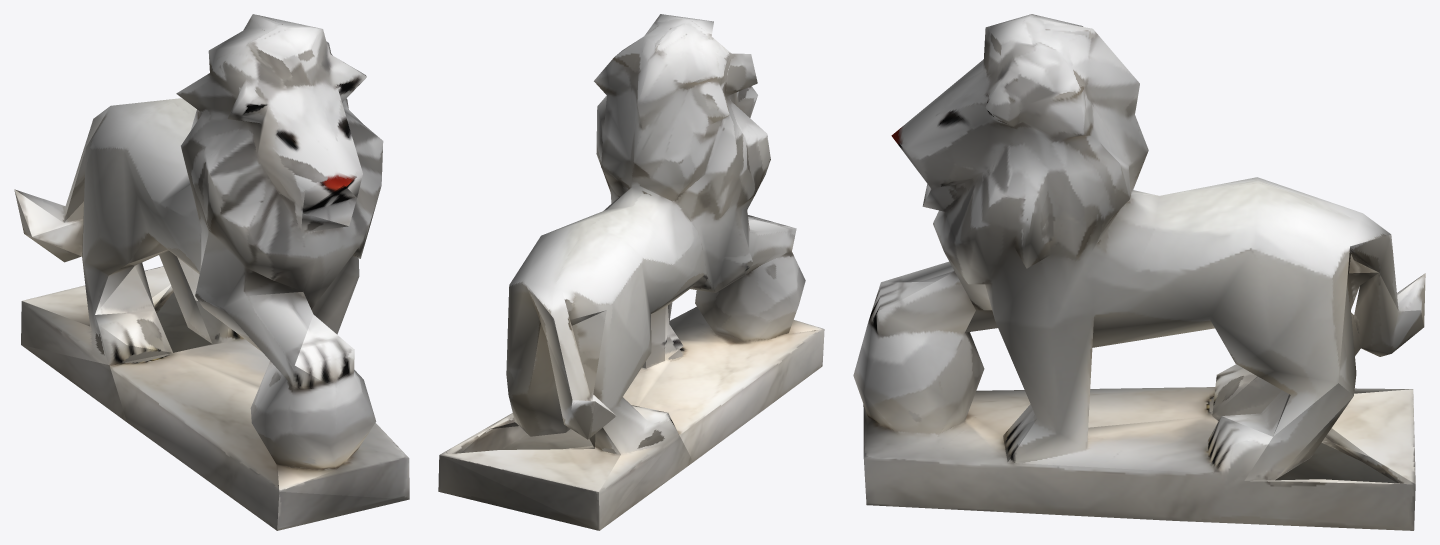
Rendered from marble-lion.glb.
3 renders of one model, left to right at view 1: azimuth 30°, elevation 25°; view 2: azimuth 150°, elevation 25°; view 3: azimuth 270°, elevation 25°, orthographic. The views are drawn at different scales.
Parts seen in each view (by area): view 1: geometry_0.001; view 2: geometry_0.001; view 3: geometry_0.001.
Part boxes in pixels (box(x1,y1,x2,y2)): geometry_0.001: box(14, 14, 409, 530); geometry_0.001: box(438, 14, 824, 530); geometry_0.001: box(853, 14, 1425, 530).
Size of the model in its own units: 0.4001 by 0.8785 by 0.9911.
1 material, 1 textured.
